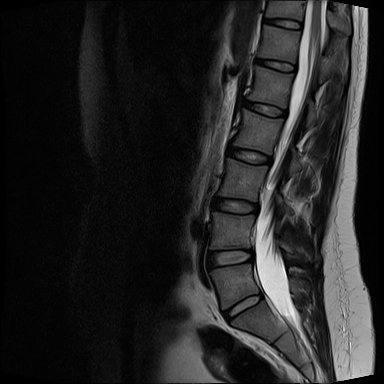Lumbar Disc Bulge LDB: (223, 145, 277, 169), (209, 194, 262, 218)
Normal IVD: (219, 287, 265, 326), (202, 244, 258, 274), (238, 93, 290, 122), (249, 54, 299, 76), (260, 15, 305, 32)
Spinal Stenosis SS: (247, 196, 265, 218), (265, 151, 279, 170)
